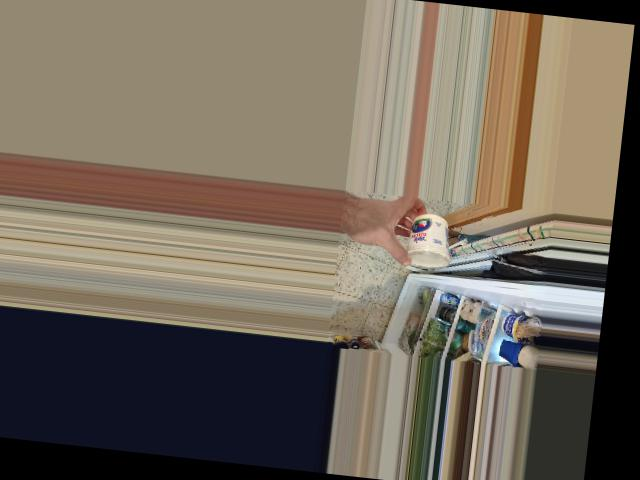cotage: (402, 209, 455, 270)
